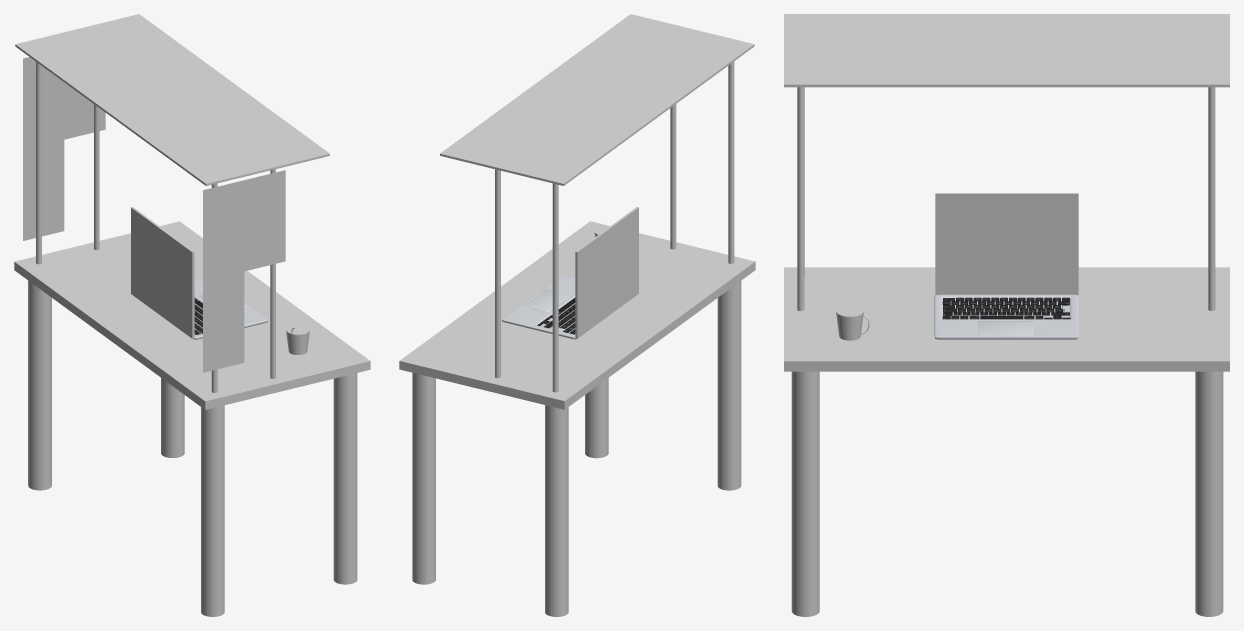
The model's file is laptop.glb.
3 renders of one model, left to right at view 1: azimuth 30°, elevation 25°; view 2: azimuth 150°, elevation 25°; view 3: azimuth 270°, elevation 25°, orthographic. The views are drawn at different scales.
Parts seen in each view (by area): view 1: UpperSupport, Bench, Glass.001, Glass, Screen, BenchSupport.001, BenchSupport, BenchSupport.003, BenchSupport.002, TopSupport, TopSupport.001, TopSupport.002 (+1 smaller); view 2: Bench, UpperSupport, Screen, BenchSupport, BenchSupport.003, BenchSupport.002, BenchSupport.001, Cube.001_Material.002_0, TopSupport, TopSupport.003, TopSupport.001, TopSupport.002 (+2 smaller); view 3: Bench, UpperSupport, Screen, BenchSupport.001, BenchSupport.002, Cube.001_Material.002_0, Keyboard, TopSupport.002, TopSupport.001, Cube.002_Material.002_0, Mug.
Boxes of the visible parts, x1,y1,x2,y2 form: UpperSupport: [15, 14, 329, 185]; Bench: [14, 221, 370, 409]; Glass.001: [203, 170, 285, 372]; Glass: [23, 57, 105, 240]; Screen: [131, 207, 194, 338]; BenchSupport.001: [333, 373, 357, 584]; BenchSupport: [201, 405, 224, 616]; BenchSupport.003: [28, 280, 51, 490]; BenchSupport.002: [161, 378, 184, 457]; TopSupport: [36, 62, 41, 264]; TopSupport.001: [94, 104, 99, 250]; TopSupport.002: [270, 169, 275, 378]; Bench: [399, 221, 755, 409]; UpperSupport: [440, 14, 754, 185]; Screen: [575, 207, 638, 338]; BenchSupport: [717, 281, 741, 490]; BenchSupport.003: [545, 405, 568, 616]; BenchSupport.002: [412, 372, 435, 584]; BenchSupport.001: [585, 378, 608, 458]; Cube.001_Material.002_0: [502, 275, 576, 339]; TopSupport: [552, 183, 558, 392]; TopSupport.003: [728, 61, 734, 263]; TopSupport.001: [495, 169, 500, 378]; TopSupport.002: [670, 104, 676, 249]; Bench: [784, 267, 1229, 371]; UpperSupport: [784, 14, 1229, 87]; Screen: [935, 193, 1078, 295]; BenchSupport.001: [791, 371, 819, 616]; BenchSupport.002: [1195, 371, 1223, 616]; Cube.001_Material.002_0: [934, 294, 1078, 339]; Keyboard: [942, 297, 1070, 319]; TopSupport.002: [797, 87, 804, 311]; TopSupport.001: [1208, 87, 1215, 310]; Cube.002_Material.002_0: [978, 321, 1033, 335]; Mug: [836, 311, 863, 340].
Bounding box in the file's own units: 4 × 10.14 × 8.
Materials: 3 (1 with a texture image).
